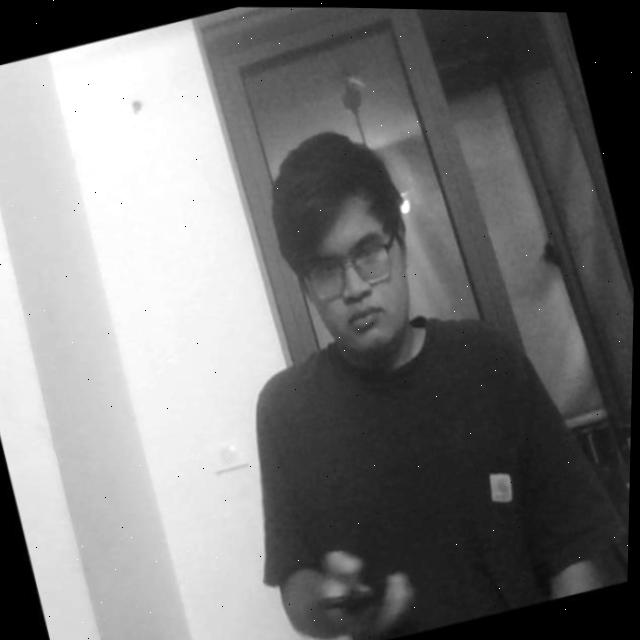phone: (303, 540, 418, 640)
